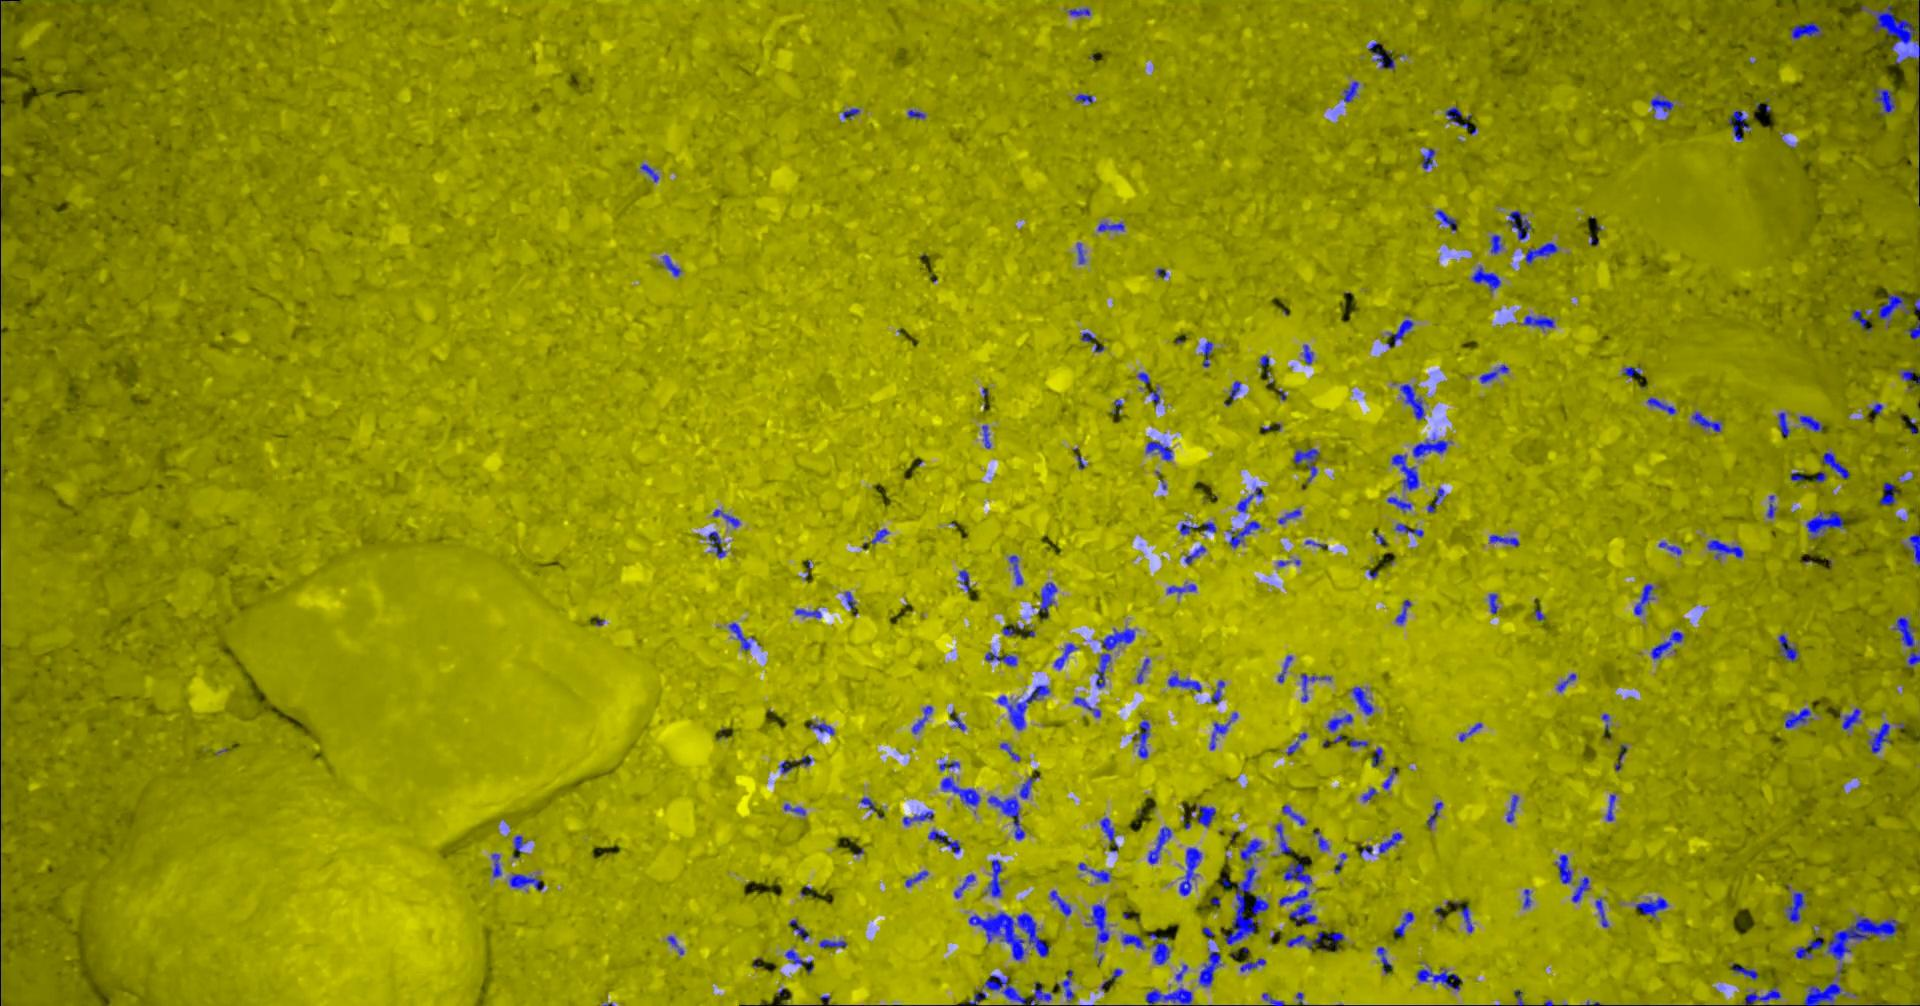ant: (987, 776, 1039, 840), (1867, 4, 1919, 61), (1223, 865, 1258, 944), (997, 683, 1049, 730), (1095, 627, 1134, 688), (1277, 861, 1316, 923), (982, 976, 1051, 1005), (1877, 293, 1919, 325), (1893, 617, 1919, 667), (940, 776, 979, 805), (1178, 847, 1201, 895), (1804, 511, 1843, 539), (1416, 967, 1462, 989), (1285, 931, 1343, 949), (1390, 453, 1418, 490), (1209, 713, 1237, 749), (1225, 520, 1258, 547), (1650, 631, 1683, 659), (1291, 447, 1318, 481), (1412, 434, 1451, 457), (1147, 826, 1171, 862), (1399, 384, 1423, 419), (1145, 987, 1192, 1005), (1197, 951, 1222, 986), (1087, 904, 1109, 942), (1803, 983, 1841, 1005), (1300, 673, 1330, 701), (927, 829, 960, 854), (1385, 319, 1413, 347), (1821, 451, 1849, 478), (728, 622, 754, 650), (1470, 265, 1500, 291), (783, 948, 813, 973), (1705, 539, 1743, 558), (1867, 721, 1890, 753), (1368, 42, 1394, 69), (1236, 486, 1263, 512), (1507, 210, 1531, 239), (1743, 986, 1780, 1005), (1148, 932, 1170, 964), (1037, 582, 1057, 617), (1524, 243, 1557, 263), (1636, 897, 1669, 917), (1053, 643, 1077, 669), (1350, 686, 1373, 714), (508, 873, 543, 890), (1873, 86, 1895, 116), (1727, 111, 1749, 140), (1133, 720, 1149, 758), (778, 754, 811, 774), (1444, 105, 1470, 128), (1100, 817, 1117, 851), (1785, 890, 1804, 922), (910, 705, 932, 733), (1789, 22, 1822, 39), (1167, 672, 1200, 690), (1633, 583, 1652, 614), (1078, 862, 1109, 882), (1072, 696, 1100, 716), (1479, 365, 1509, 384), (1691, 412, 1721, 431), (1190, 804, 1215, 826), (1145, 439, 1172, 460), (1274, 823, 1291, 854), (1778, 633, 1797, 661), (987, 859, 1001, 897), (1058, 969, 1074, 1001), (1281, 804, 1305, 826), (1239, 838, 1261, 862), (952, 874, 974, 898), (1049, 890, 1070, 915), (1646, 396, 1675, 414), (1784, 708, 1810, 728), (1393, 911, 1413, 936), (1434, 210, 1457, 231), (1378, 832, 1402, 852), (902, 810, 933, 826), (1554, 854, 1571, 883), (707, 531, 725, 558), (1326, 713, 1352, 730), (1079, 332, 1103, 351), (1571, 876, 1589, 902), (1523, 315, 1554, 329), (984, 652, 1016, 666), (712, 509, 739, 526), (1426, 801, 1443, 828), (1458, 721, 1481, 741), (1286, 732, 1305, 754), (1008, 555, 1022, 586), (1377, 946, 1392, 974), (862, 528, 888, 545), (1851, 309, 1870, 330), (1183, 545, 1205, 564), (1841, 708, 1860, 729), (662, 255, 681, 276), (1385, 495, 1411, 511), (789, 920, 808, 940), (1879, 481, 1896, 504), (1277, 655, 1291, 682), (1394, 523, 1423, 536), (1490, 533, 1519, 546), (1595, 898, 1608, 927), (1277, 508, 1302, 523), (999, 742, 1018, 761), (1250, 895, 1269, 915), (905, 870, 927, 887), (808, 721, 833, 735), (1799, 415, 1822, 431), (1556, 673, 1575, 691), (1460, 906, 1473, 932), (1396, 600, 1410, 624), (1909, 533, 1919, 565), (1137, 658, 1149, 683), (1614, 744, 1627, 770), (1239, 958, 1265, 970), (1650, 97, 1672, 111), (1210, 680, 1224, 702), (1506, 794, 1517, 822), (640, 163, 658, 180), (667, 935, 683, 954), (1313, 829, 1328, 850), (1733, 967, 1757, 979), (1343, 80, 1357, 102), (1121, 934, 1143, 948), (1900, 368, 1919, 384), (1658, 541, 1681, 554), (1261, 992, 1284, 1005), (1382, 767, 1396, 788), (1778, 412, 1789, 436), (1166, 584, 1196, 593), (1605, 794, 1615, 821), (490, 854, 502, 876), (1421, 149, 1434, 169), (1201, 340, 1211, 366), (968, 991, 985, 1005), (1907, 318, 1919, 339), (783, 803, 805, 814), (1097, 222, 1124, 231), (795, 608, 822, 617), (819, 939, 846, 948), (1302, 344, 1313, 365), (512, 835, 522, 857), (1623, 366, 1641, 379), (959, 569, 969, 591), (1490, 234, 1501, 253), (1361, 788, 1377, 801), (1229, 380, 1239, 400), (982, 426, 990, 448), (1766, 495, 1775, 518), (1149, 387, 1159, 406), (1178, 523, 1197, 533), (1371, 747, 1382, 766), (1068, 8, 1090, 17), (842, 108, 858, 119), (1076, 243, 1084, 263), (844, 591, 855, 608), (1488, 593, 1497, 614), (938, 761, 959, 770), (1523, 888, 1531, 907), (907, 109, 924, 118), (1076, 93, 1092, 102), (1349, 738, 1368, 746)
